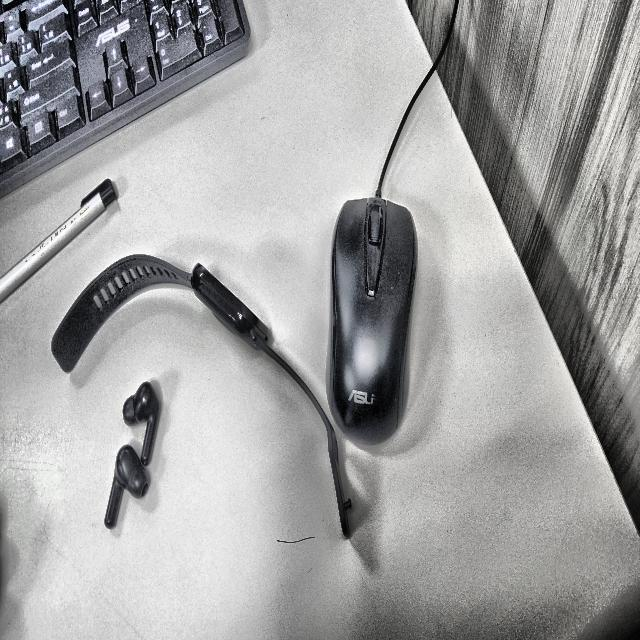Bluetooth headphones: (105, 382, 160, 528)
Electronic watch: (52, 255, 351, 537)
Keyboard: (0, 0, 250, 198)
MOUSE: (327, 198, 417, 444)
